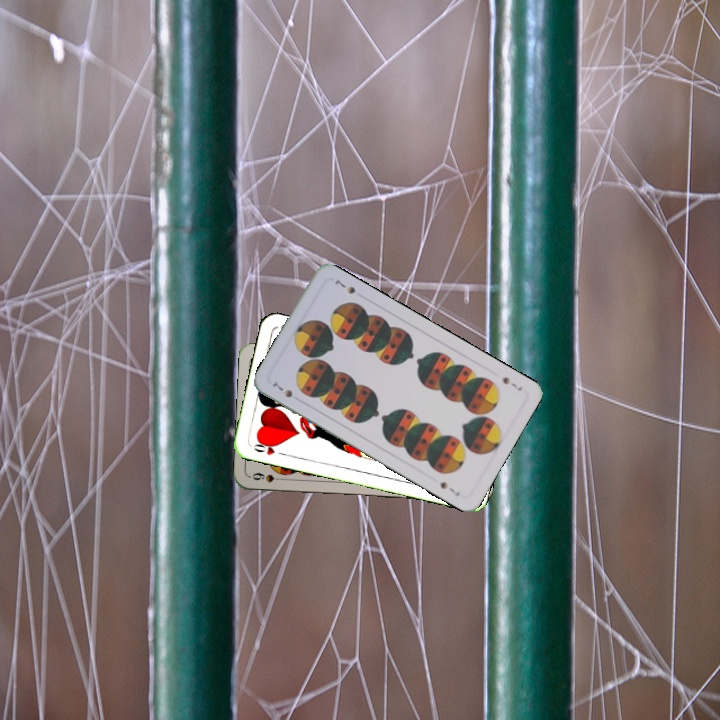HO: (247, 436, 288, 458)
S7: (268, 378, 295, 400), (498, 373, 525, 393)
S9: (249, 469, 288, 485)
